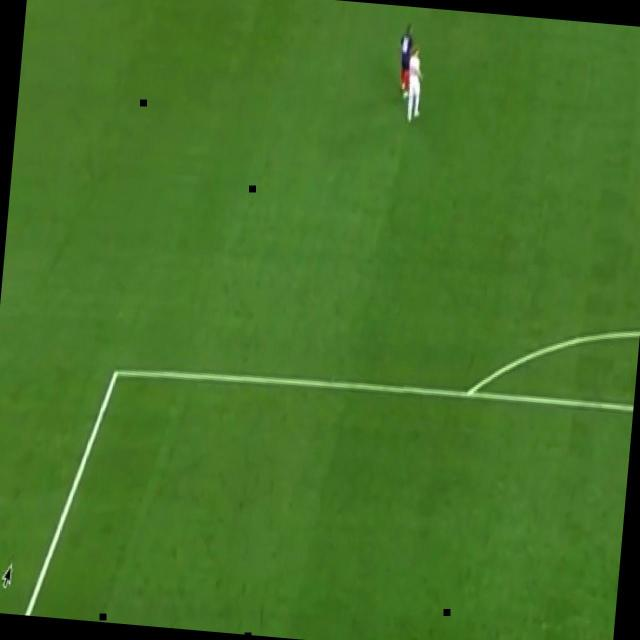player-white: (403, 45, 427, 126), (394, 22, 417, 102)
